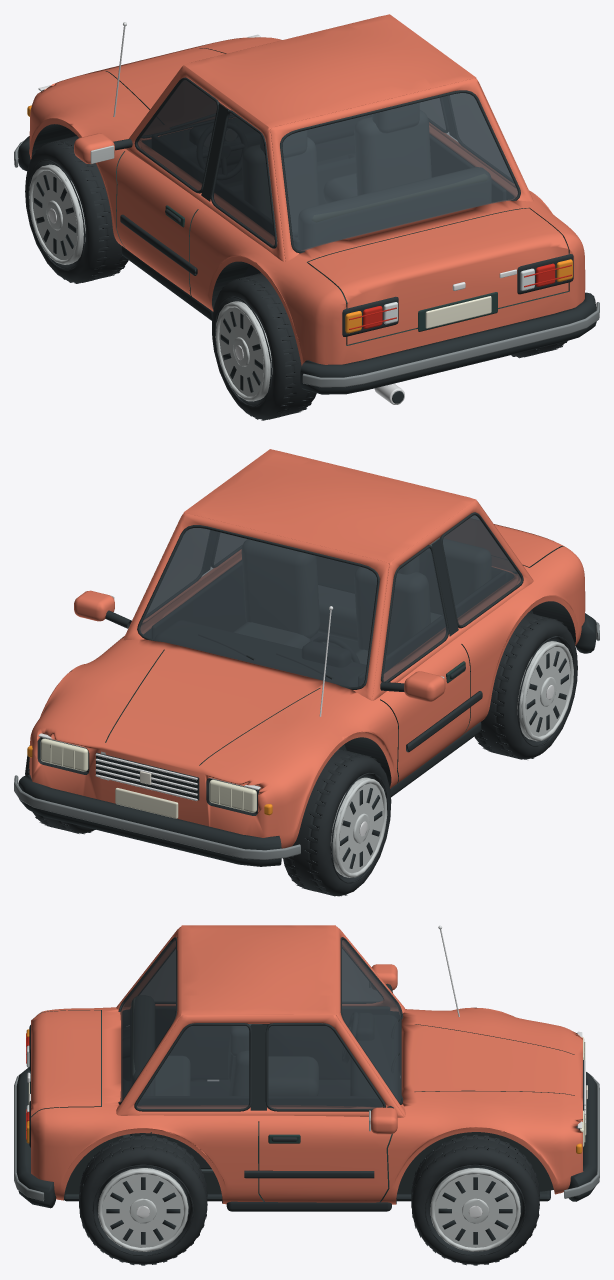
The model's file is marlow_lod1.fbx.
3 views of the same model, one above another, from view 1: azimuth 30°, elevation 25°; view 2: azimuth 150°, elevation 25°; view 3: azimuth 270°, elevation 25° (orthographic). The views are drawn at different scales.
Visible parts, largest first — view 1: Body, Wheel_RL_Mesh, Wheel_FL_Mesh; view 2: Body, Wheel_FL_Mesh, Wheel_RL_Mesh; view 3: Body, Wheel_RR_Mesh, Wheel_FR_Mesh.
Boxes of the visible parts, x1,y1,x2,y2 form: Body: (14, 14, 599, 404); Wheel_RL_Mesh: (212, 273, 316, 420); Wheel_FL_Mesh: (25, 136, 128, 283); Body: (14, 449, 599, 866); Wheel_FL_Mesh: (283, 749, 391, 896); Wheel_RL_Mesh: (474, 612, 577, 759); Body: (14, 925, 599, 1211); Wheel_RR_Mesh: (79, 1134, 207, 1265); Wheel_FR_Mesh: (411, 1134, 539, 1265).
Size of the model in its own units: 231 by 165 by 365.
